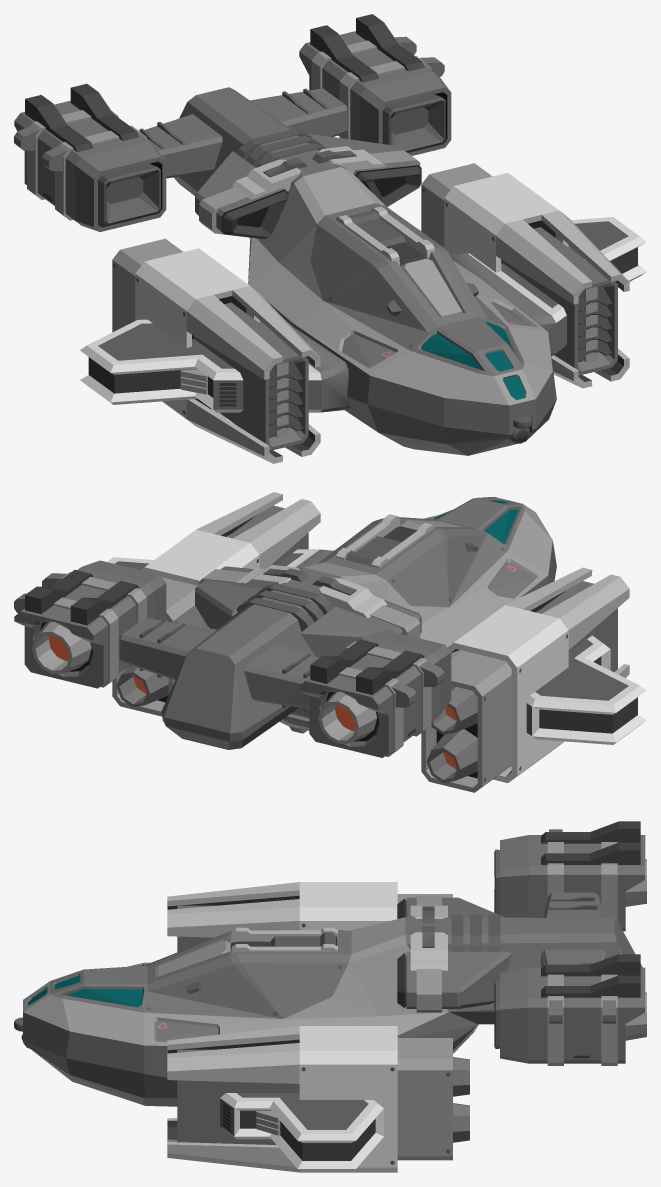
Rendered from starship_005_edit.fbx.
The picture shows the model from 3 angles, top to bottom: view 1: azimuth 30°, elevation 25°; view 2: azimuth 150°, elevation 25°; view 3: azimuth 270°, elevation 25°; orthographic projection. The views are drawn at different scales.
Visible parts, largest first — view 1: starship_005, starship_005_inside, starship_005_window; view 2: starship_005, starship_005_inside, starship_005_window, _door; view 3: starship_005, starship_005_inside, starship_005_window.
Boxes of the visible parts, bbox=[...] form: starship_005: bbox=[14, 14, 646, 463]; starship_005_inside: bbox=[175, 87, 556, 454]; starship_005_window: bbox=[421, 322, 524, 399]; starship_005: bbox=[14, 492, 646, 792]; starship_005_inside: bbox=[162, 497, 555, 748]; starship_005_window: bbox=[433, 500, 518, 543]; _door: bbox=[280, 707, 309, 733]; starship_005: bbox=[14, 821, 646, 1172]; starship_005_inside: bbox=[23, 917, 635, 1106]; starship_005_window: bbox=[27, 976, 142, 1006].
Bounding box in the file's own units: 1955 × 678 × 2096.
